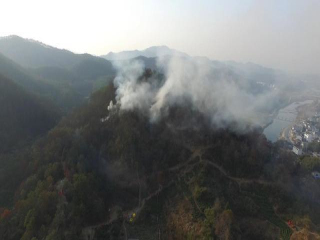smoke: (100, 33, 275, 133)
